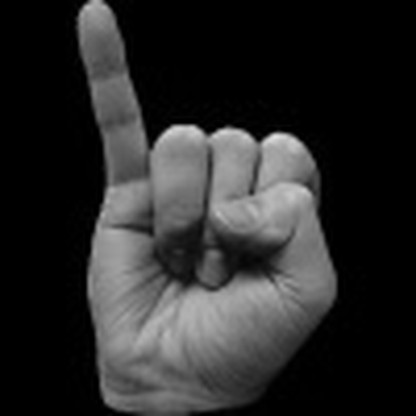i: (51, 3, 364, 387)
